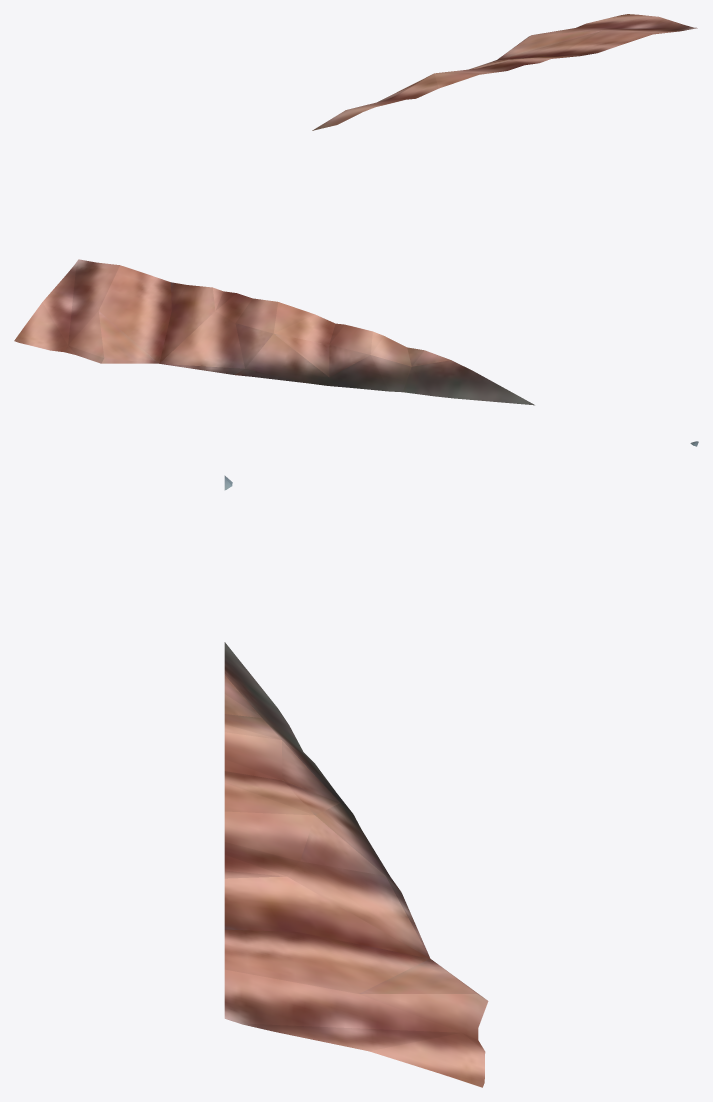
3 views of the same model, one above another, from view 1: azimuth 30°, elevation 25°; view 2: azimuth 150°, elevation 25°; view 3: azimuth 270°, elevation 25° (orthographic). The views are drawn at different scales.
Size of the model in its own units: 0.8373 by 0.0525 by 0.1543.
1 material, 1 textured.
